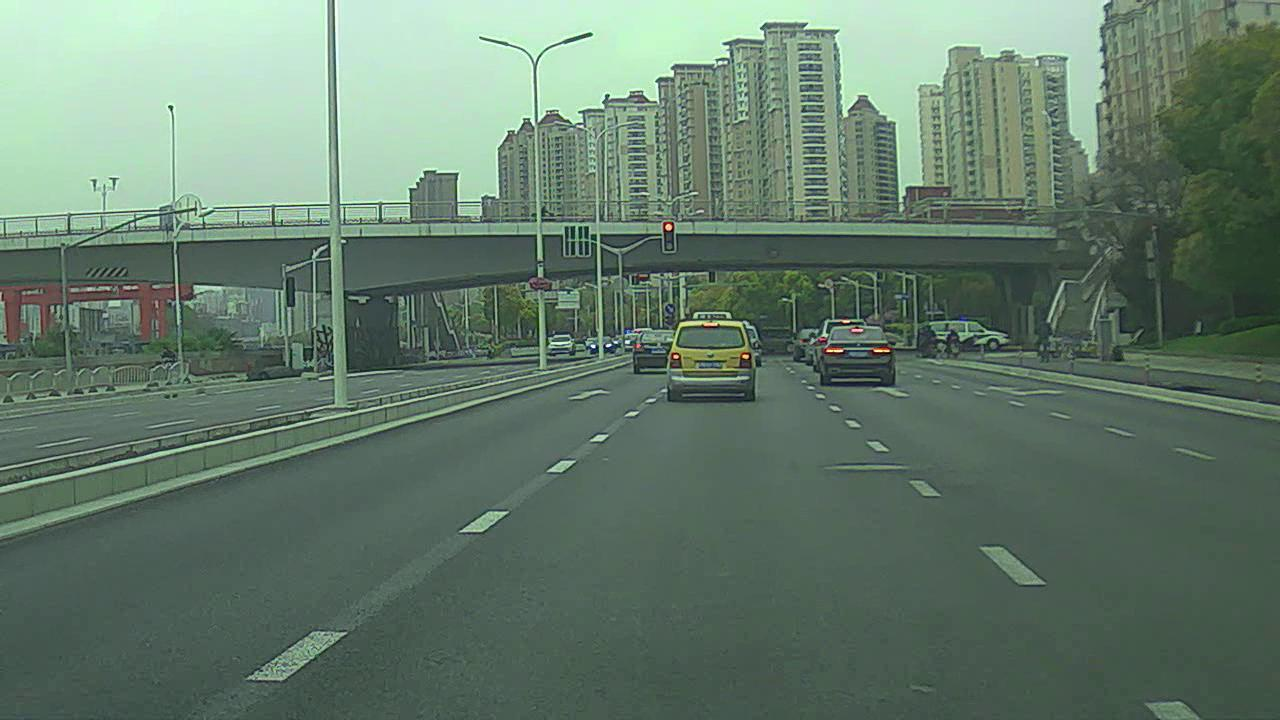traffic_light: (661, 220, 679, 256)
